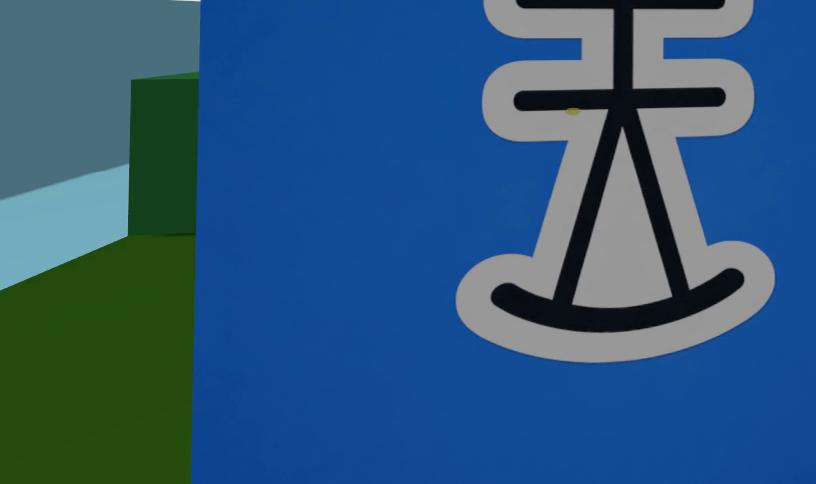KFS_REAL: (191, 0, 816, 483), (456, 0, 773, 362)
